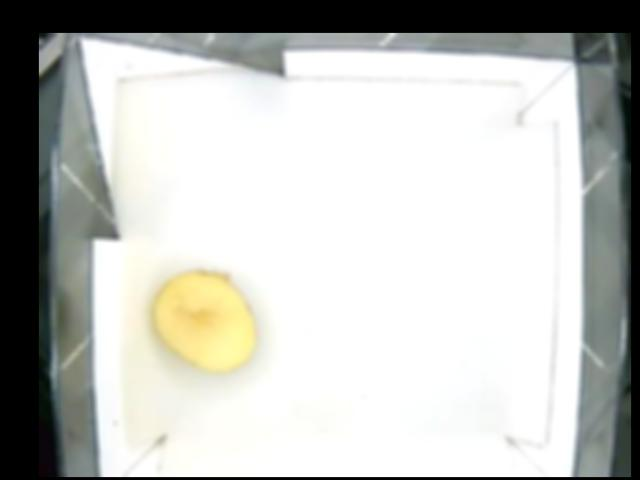Potato: (151, 269, 258, 372)
